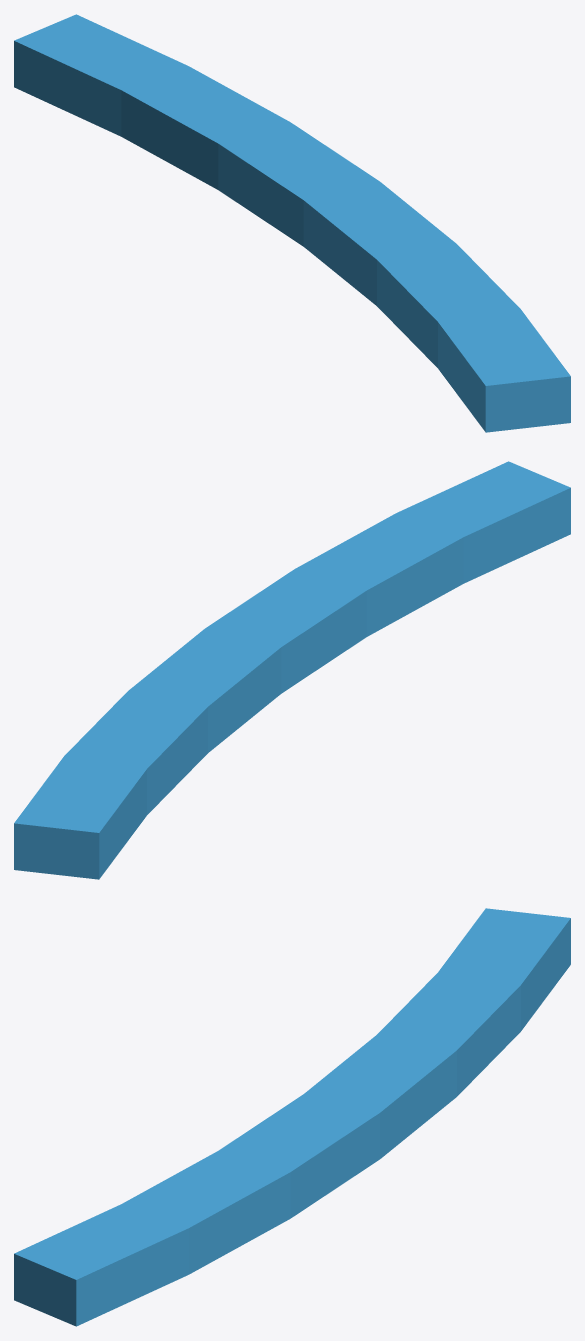
Rendered from velodrome-and-track-cycling-cote-d-azur-bend-module-0a0e3e8c__37978.glb.
The picture shows the model from 3 angles, top to bottom: view 1: azimuth 30°, elevation 25°; view 2: azimuth 150°, elevation 25°; view 3: azimuth 330°, elevation 25°; orthographic projection.
Parts seen in each view (by area): view 1: cote-d-azur-bend-module-azure; view 2: cote-d-azur-bend-module-azure; view 3: cote-d-azur-bend-module-azure.
Boxes of the visible parts, x1,y1,x2,y2 form: cote-d-azur-bend-module-azure: [14, 14, 570, 432]; cote-d-azur-bend-module-azure: [14, 461, 570, 879]; cote-d-azur-bend-module-azure: [14, 908, 570, 1326].
Bounding box in the file's own units: 1.02 × 0.3499 × 6.73.
